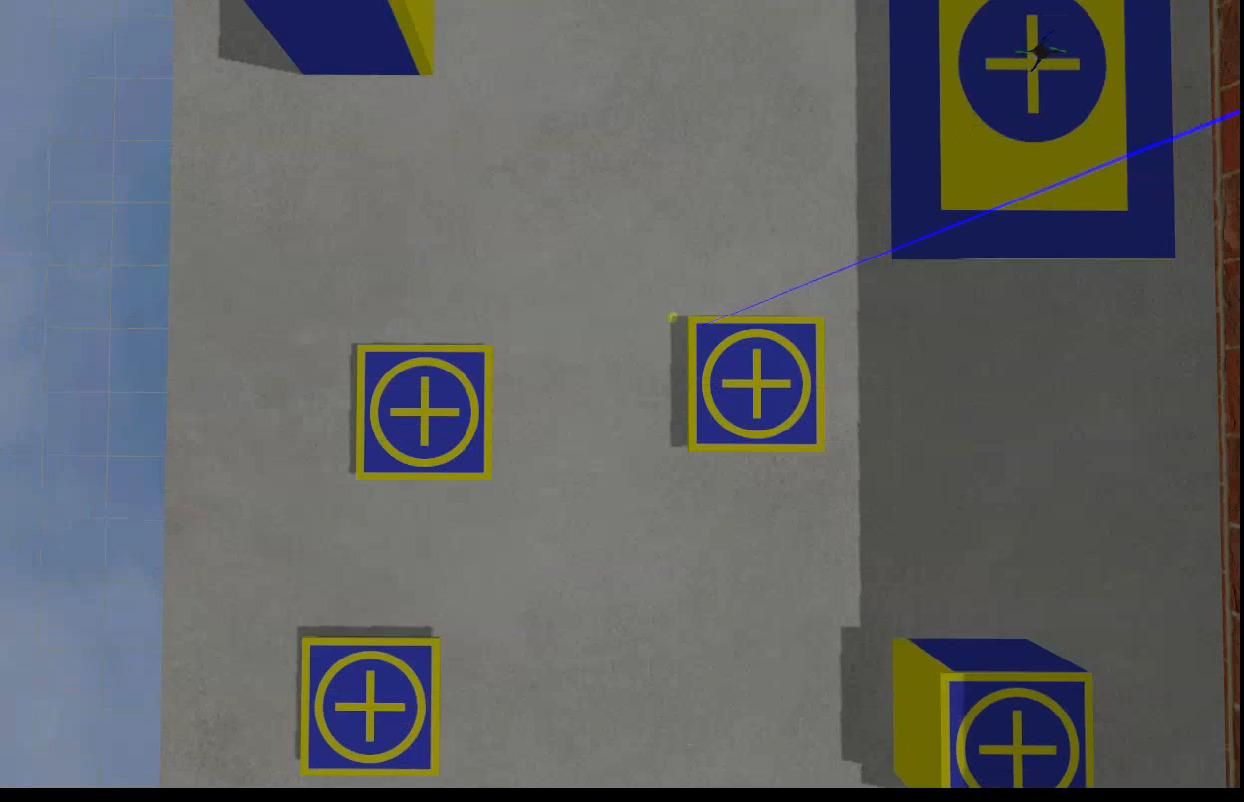large_base: (893, 1, 1179, 261)
small_base: (300, 638, 444, 779), (937, 672, 1098, 793), (358, 345, 492, 485), (689, 321, 830, 454)
